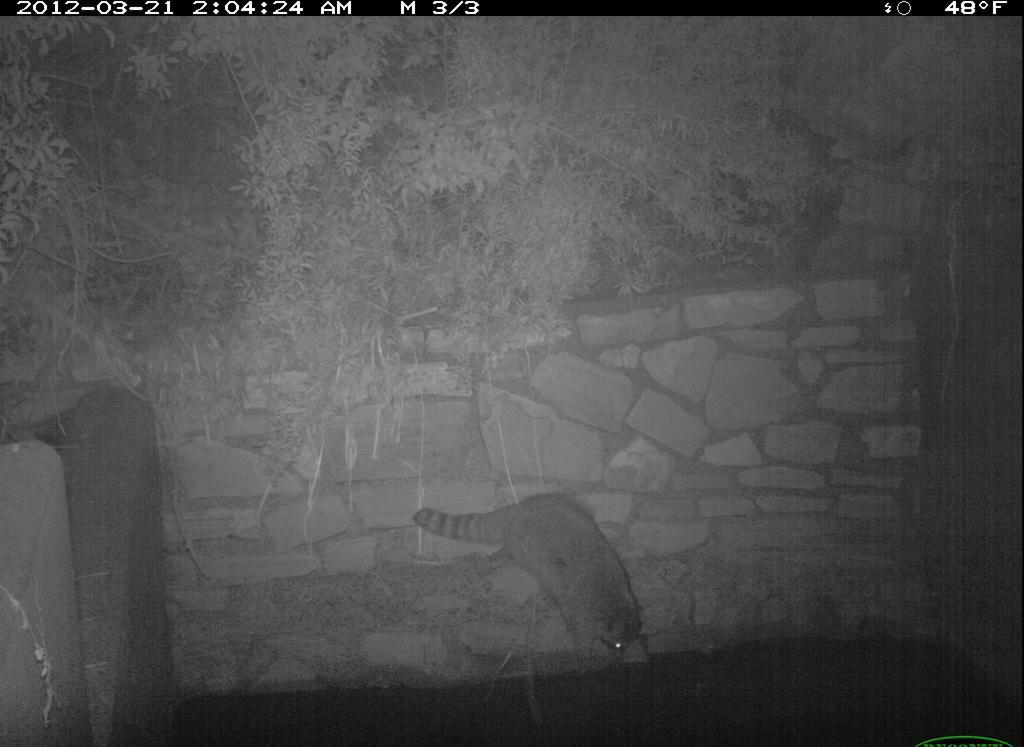raccoon: (402, 491, 674, 673)
